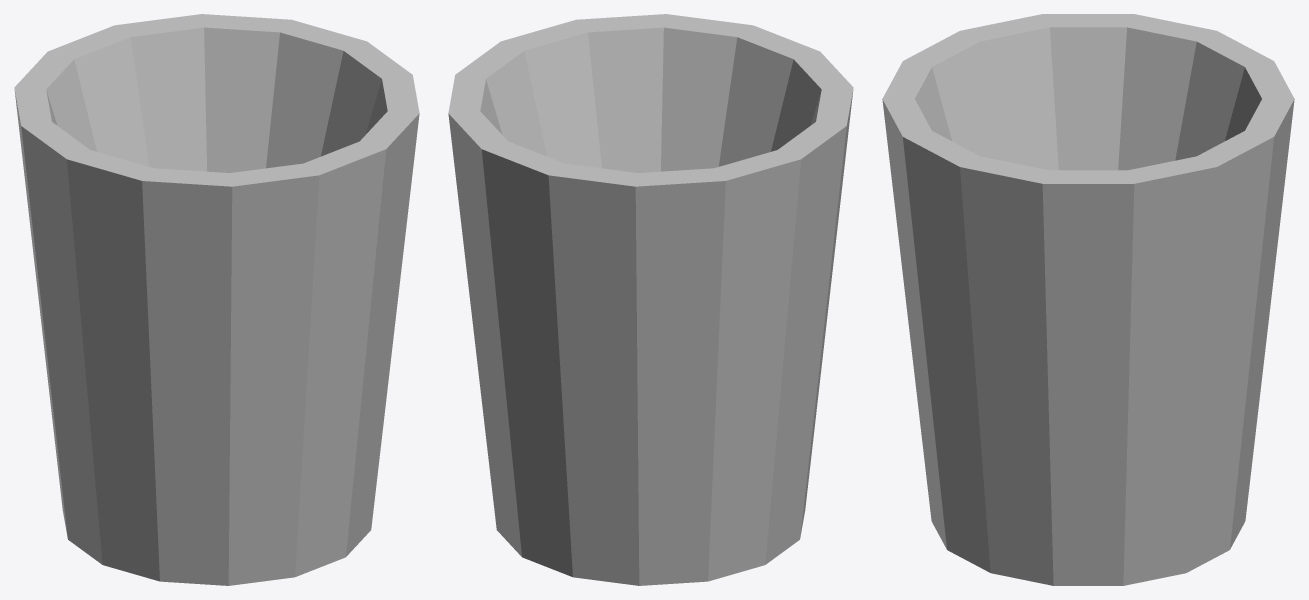
Rendered from Cup_2.fbx.
3 renders of one model, left to right at view 1: azimuth 30°, elevation 25°; view 2: azimuth 150°, elevation 25°; view 3: azimuth 270°, elevation 25°, orthographic.
Parts seen in each view (by area): view 1: Cup_2; view 2: Cup_2; view 3: Cup_2.
Boxes of the visible parts, bbox=[...] form: Cup_2: bbox=[14, 14, 419, 585]; Cup_2: bbox=[448, 14, 853, 585]; Cup_2: bbox=[882, 14, 1294, 585].
Bounding box in the file's own units: 0.0259 × 0.03 × 0.0265.
